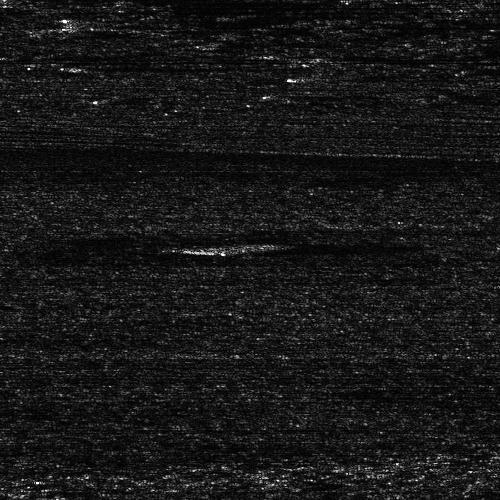object: (275, 49, 380, 60), (30, 59, 103, 74), (187, 241, 270, 252), (279, 75, 332, 80)
shadow: (67, 59, 218, 74), (229, 241, 392, 252), (327, 49, 488, 60), (306, 75, 385, 80)
